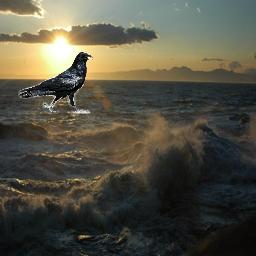Crow: (18, 52, 95, 114)
